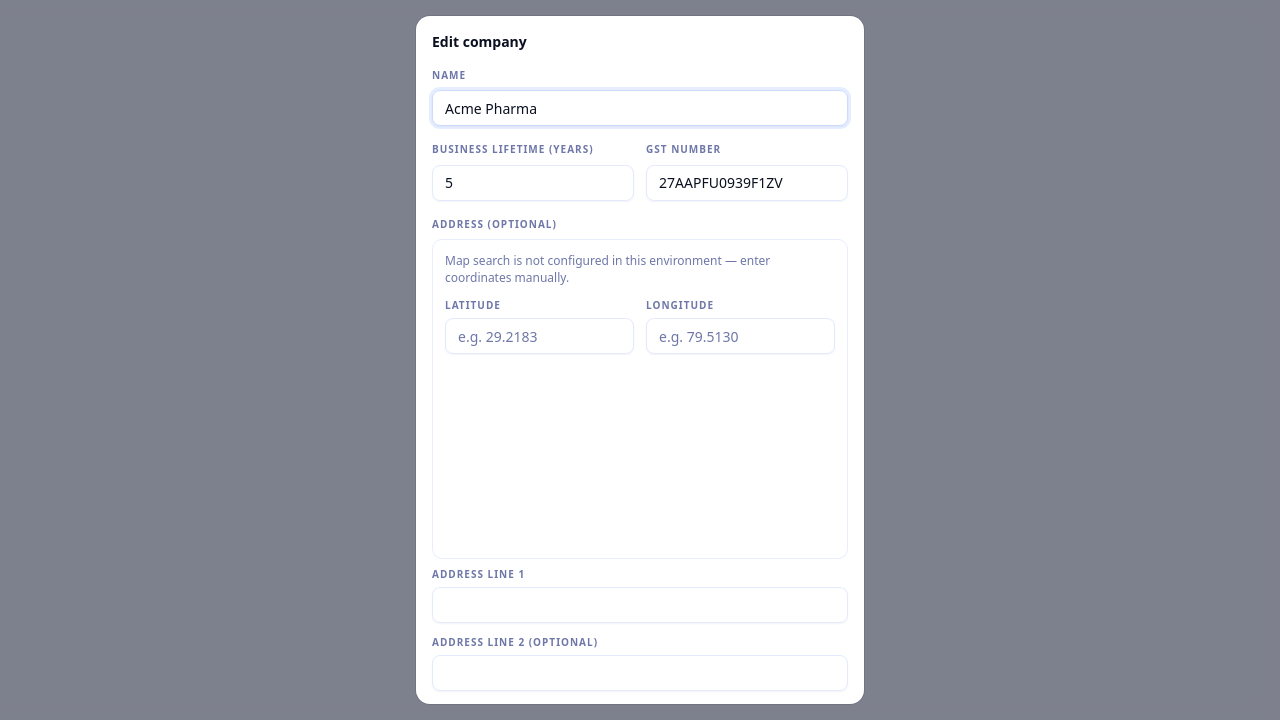
Scenario: EditTenantModal — gst / businessLifetime concurrency › blanking an already-set gst or businessLifetime warns instead of silently reverting on save
expect the text "can't be cleared once set" is not shown: met
Clear the field labelled "GST number": (747, 183) x1=646 y1=165 x2=848 y2=201
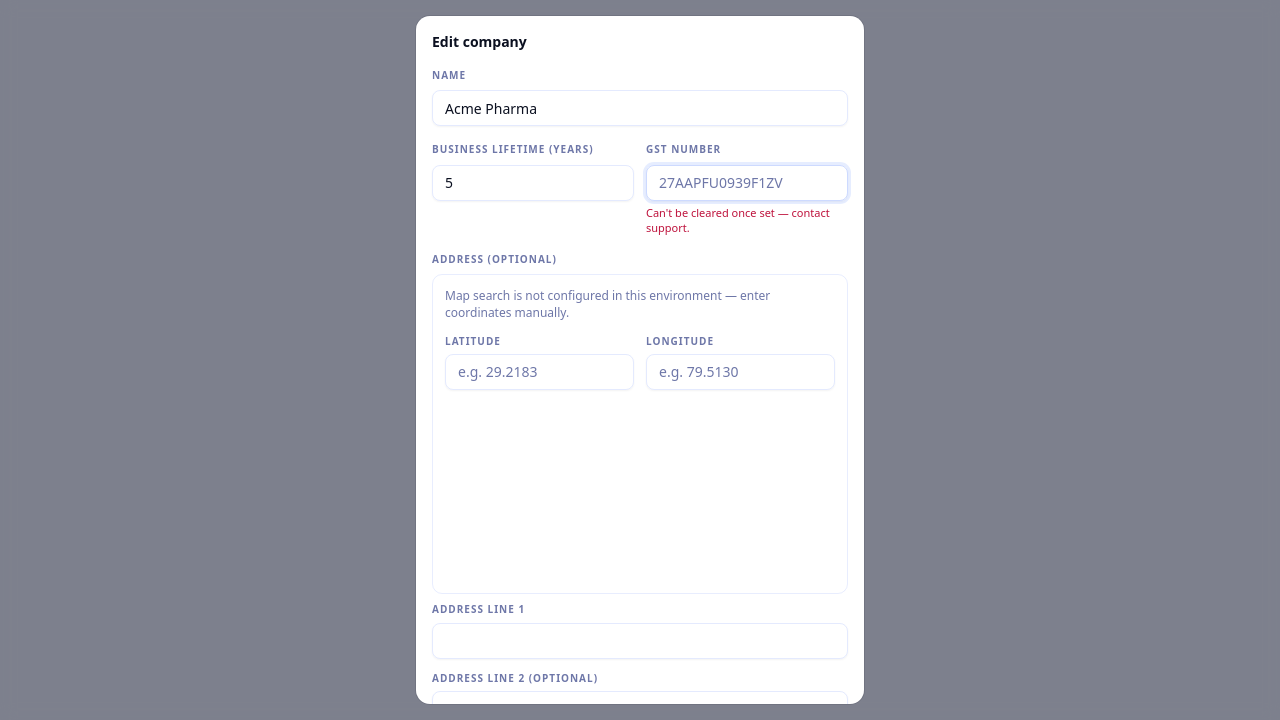
expect the text "Can't be cleared once set — contact support." is shown once: met, box x1=646 y1=205 x2=848 y2=236
Clear the number field labelled "Business lifetime (years)": (533, 183) x1=432 y1=165 x2=634 y2=201
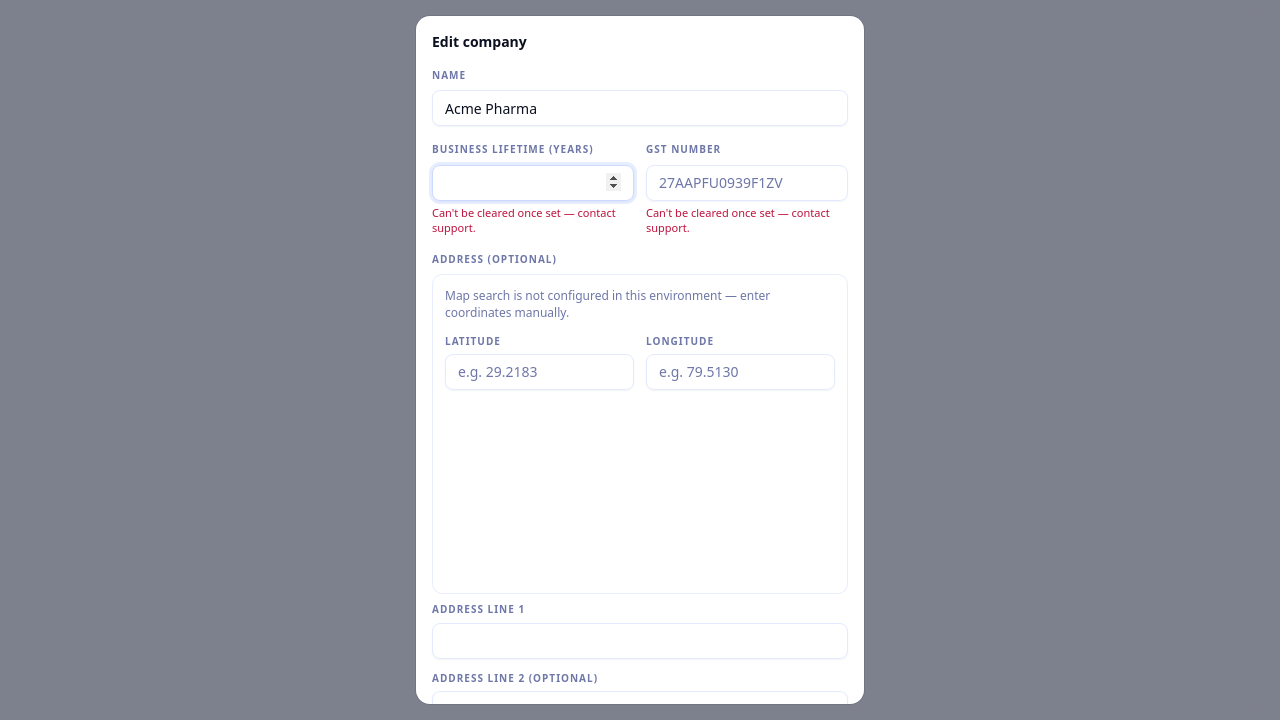
expect the text "Can't be cleared once set — contact support." is shown 2 times: met, box x1=432 y1=205 x2=634 y2=236; x1=646 y1=205 x2=848 y2=236
